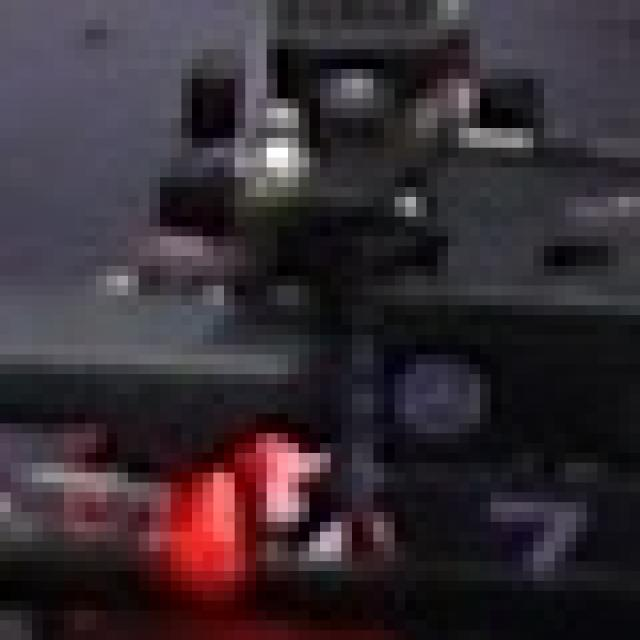R5: (170, 424, 394, 610)
